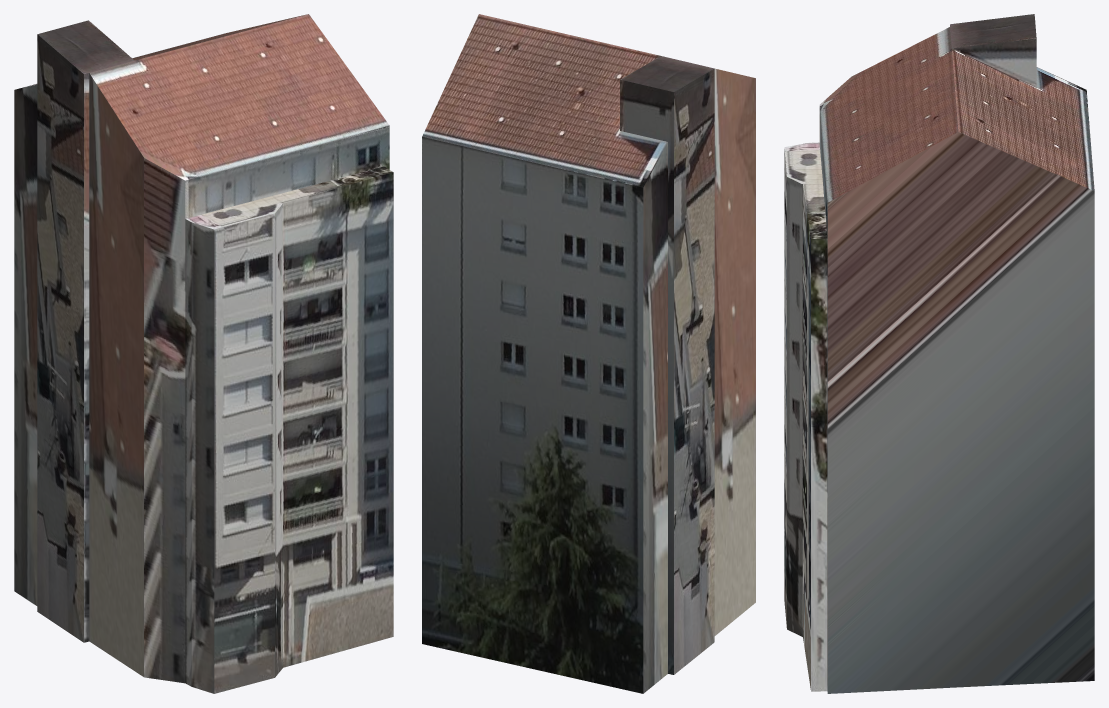
3 renders of one model, left to right at view 1: azimuth 30°, elevation 25°; view 2: azimuth 150°, elevation 25°; view 3: azimuth 270°, elevation 25°, orthographic. The views are drawn at different scales.
Parts seen in each view (by area): view 1: Z_UP; view 2: Z_UP; view 3: Z_UP.
Boxes of the visible parts, x1,y1,x2,y2 form: Z_UP: [14, 14, 393, 693]; Z_UP: [422, 14, 755, 693]; Z_UP: [784, 14, 1094, 693].
Size of the model in its own units: 11.96 by 26.83 by 13.39.
2 materials, 1 textured.
